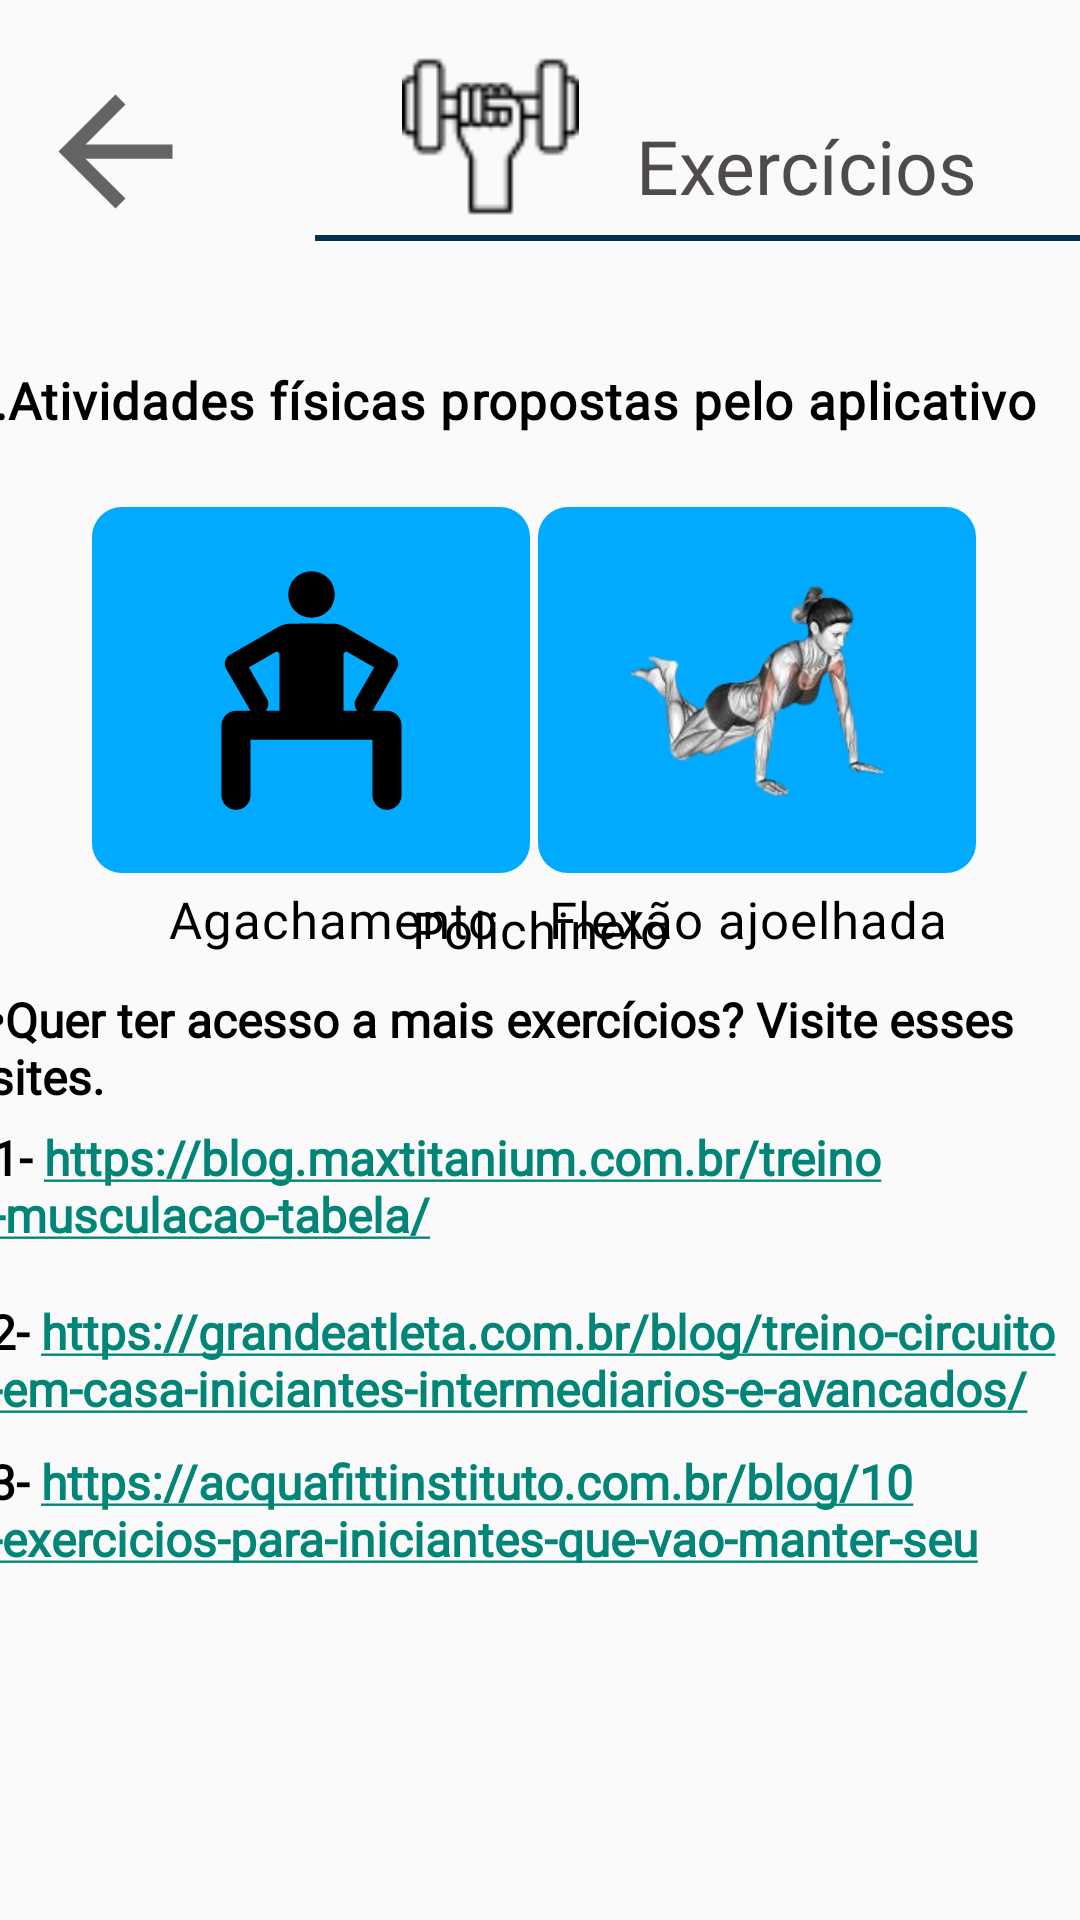

Locate icon controls on the screen. Image size 1080*1920, boxes as (x1, y1, x2, y2).
exercicios: (402, 58, 579, 215)
squatting exercise squat fight: (221, 571, 402, 810)
